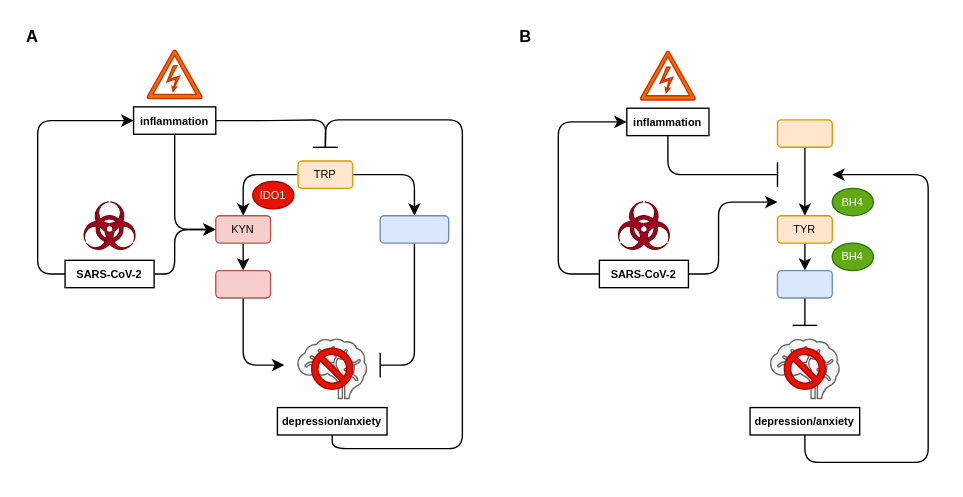
Some shapes in this 963 by 497 pixel diagram are drawn without their labels. The shapes that lost their labels are listed below. From the top down, each one's centre as x and y in pixels, then its label:
the point at 804,133: PHE
the point at 414,228: serotonin
the point at 242,283: QUIN
the point at 804,283: dopamine
